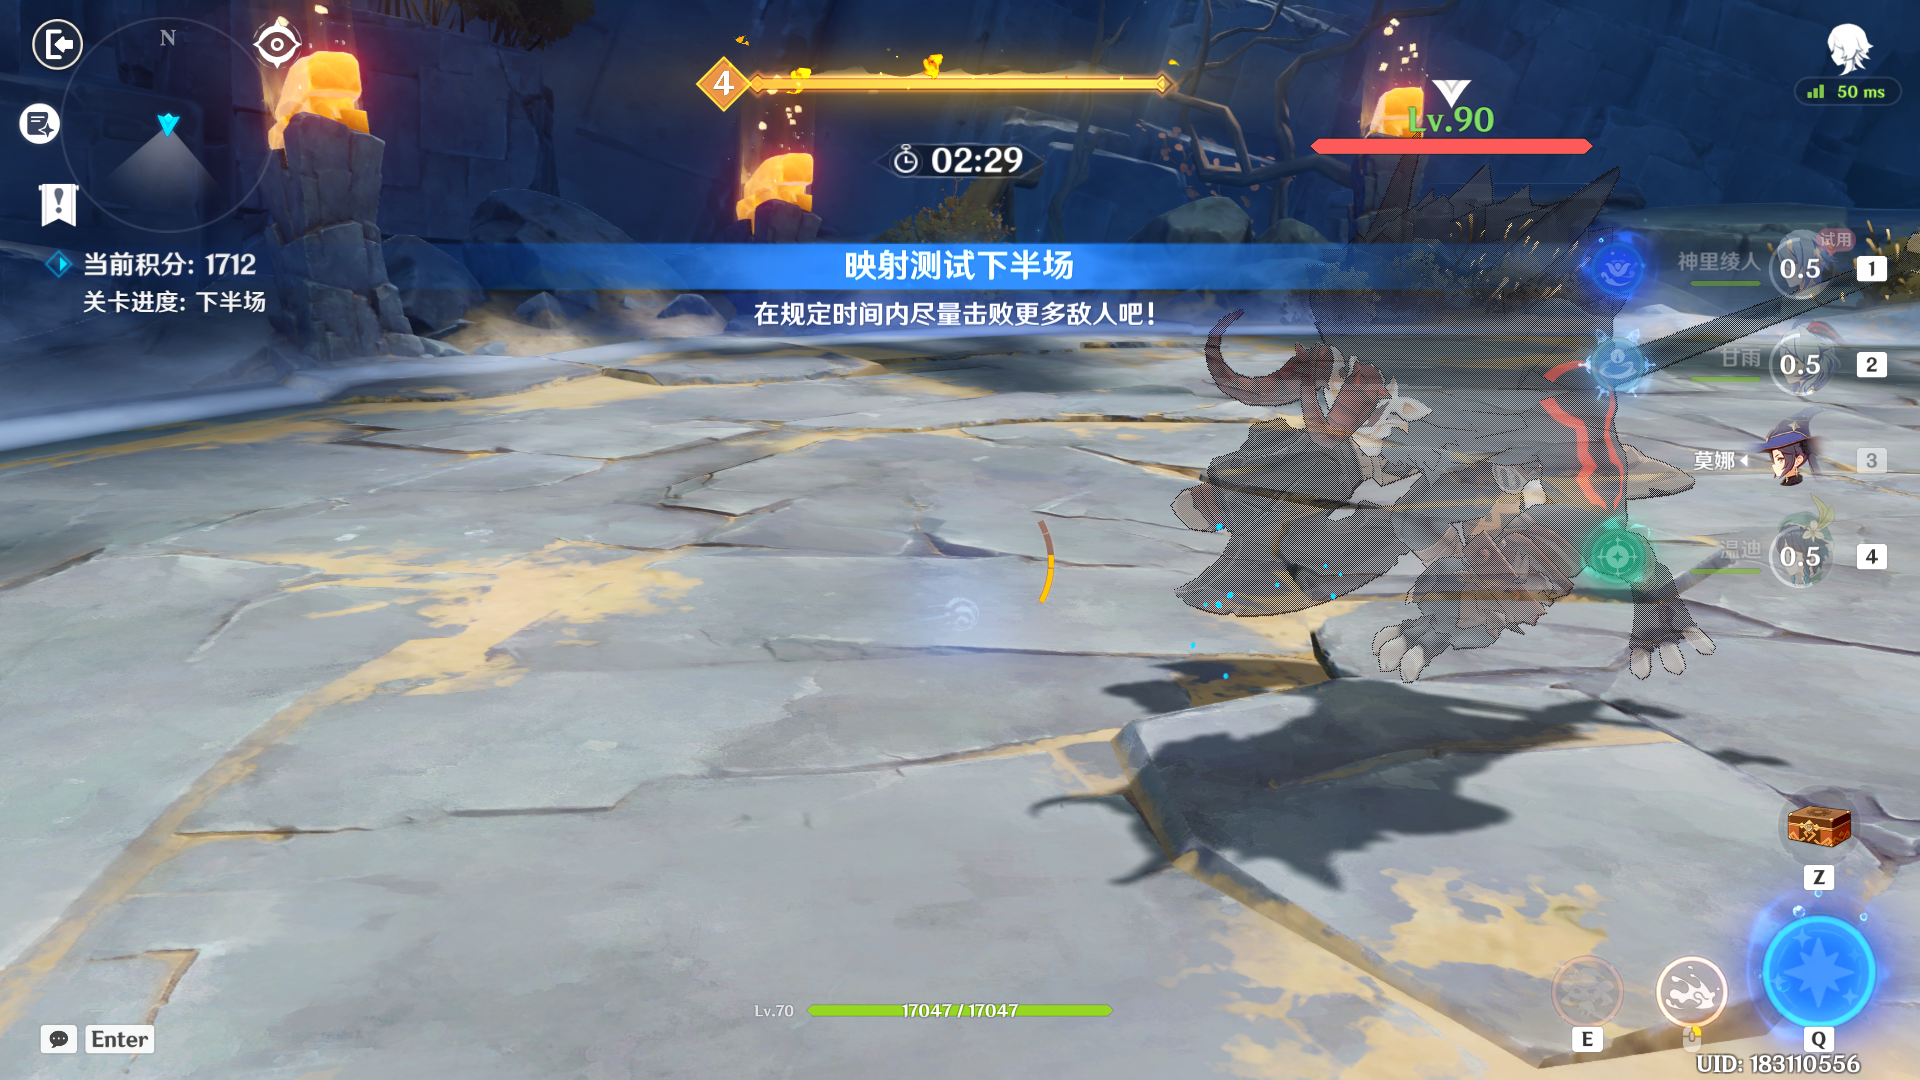bighili: (1176, 142, 1737, 769)
